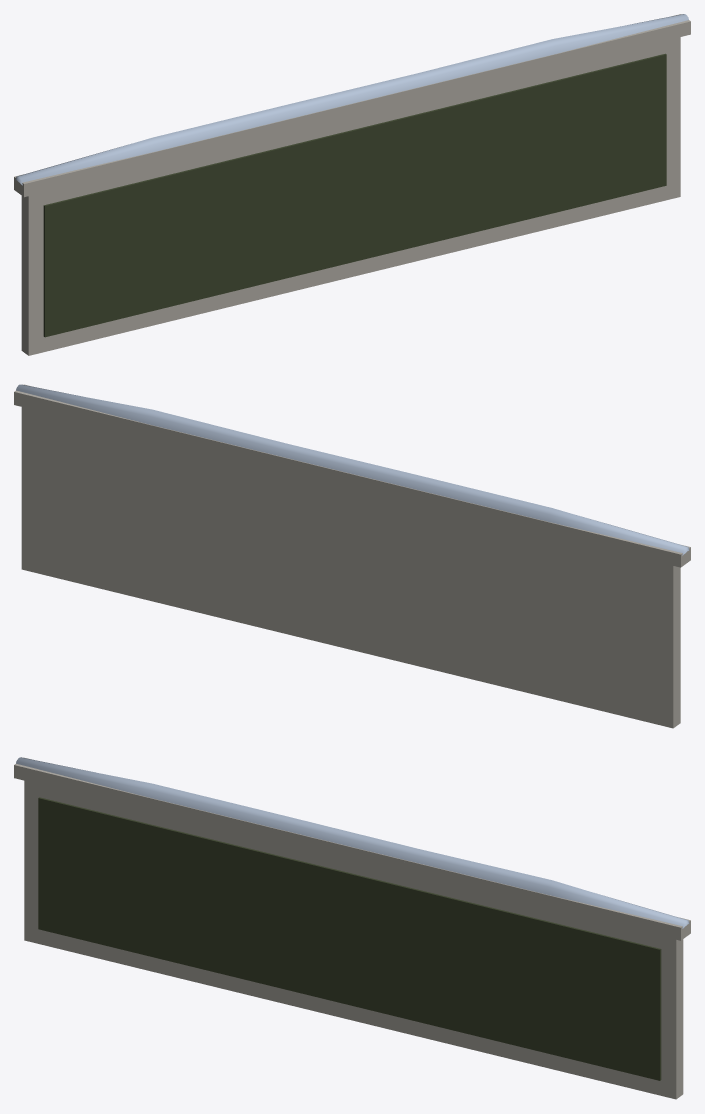
File: sign_shop.glb
3 renders of one model, top to bottom at view 1: azimuth 30°, elevation 25°; view 2: azimuth 150°, elevation 25°; view 3: azimuth 330°, elevation 25°, orthographic.
Parts seen in each view (by area): view 1: Panel, Prop; view 2: Prop; view 3: Panel, Prop.
Part boxes in pixels (x1,y1,x2,y2): Panel: (43,53,666,337); Prop: (14,14,690,355); Prop: (14,384,690,728); Panel: (38,797,661,1080); Prop: (14,757,690,1099).
Bounding box in the file's own units: 2.68 × 0.7126 × 0.07.
